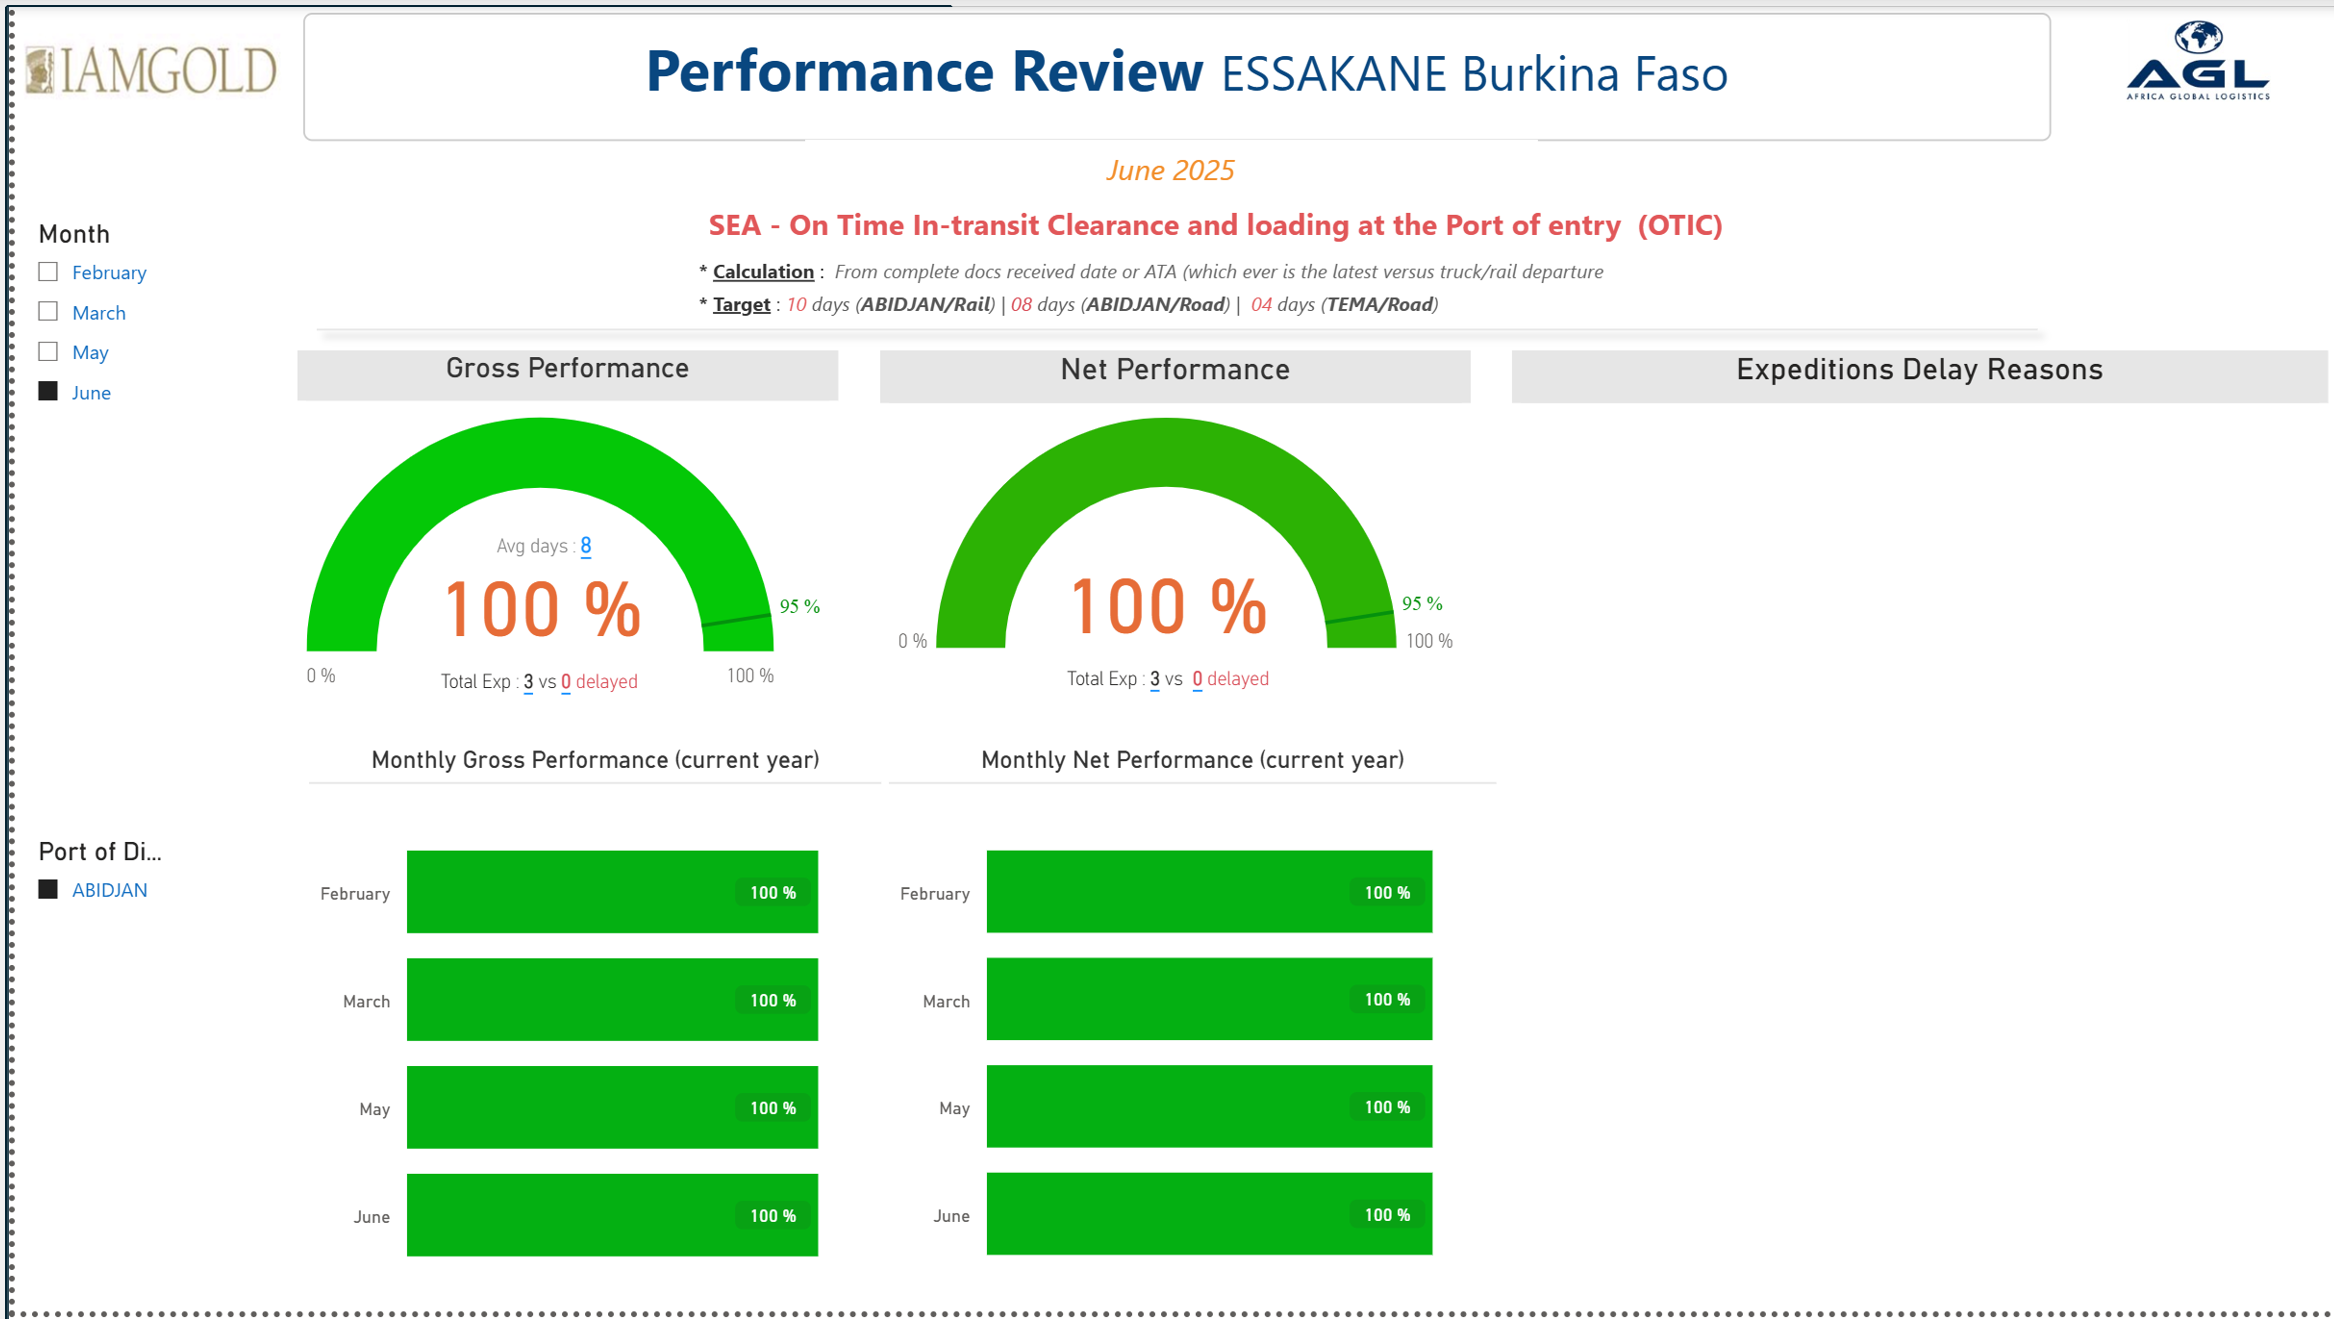

This screenshot's page, from the dashboard's own definition file:
{"tool":"powerbi","page":{"name":"SEA - ABJ | On-Time Clearance and Delivery POD-BF (OTIC))","canvas":[1280,720],"ordinal":0},"visuals":[{"type":"image","box":[1128.2,0,151.5,66.6],"z":0},{"type":"image","box":[0,0.9,152.4,65.7],"z":1000},{"type":"textbox","box":[158.7,4.5,963,70.7],"z":2000},{"type":"textbox","box":[369.6,104.2,583.4,33.3],"z":3000},{"type":"textbox","box":[435.3,75.3,403.8,35.9],"z":4000},{"type":"textbox","box":[371.1,132.2,537.7,47.6],"z":5000},{"type":"gauge","title":"Net Performance","fields":{"Y":["Avg(ESSA_sea.Net Perf % (In Transit))"]},"box":[477.3,190.4,325.4,182],"z":5000,"group":"g1"},{"type":"shape","box":[156.8,170.8,966.1,18.4],"z":6000},{"type":"slicer","fields":{"Values":["ESSA_sea.Month"]},"box":[0,113,115.6,279.4],"z":7000},{"type":"gauge","title":"Gross Performance","fields":{"Y":["Avg(ESSA_sea.Gross Perf % (In Transit))"]},"box":[156.5,190.4,298.1,202.4],"z":8000},{"type":"slicer","fields":{"Values":["ESSA_sea.Port of Discharge"]},"box":[0,453.7,106.9,94.6],"z":9000},{"type":"group","id":"g1","title":"Groupe 1","box":[477.3,190.4,325.4,182],"z":10000,"group":"g2"},{"type":"barChart","title":"Monthly Gross Performance (current year)","fields":{"Y":["Avg(ESSA_sea.Gross Perf % (In Transit))"],"Category":["ESSA_sea.Month"]},"box":[162,409.1,315.3,310.9],"z":10000},{"type":"barChart","title":"Monthly Net Performance (current year)","fields":{"Y":["Avg(ESSA_sea.Net Perf % (In Transit))"],"Category":["ESSA_sea.Month"]},"box":[481.8,409.1,334.6,310.1],"z":11000},{"type":"barChart","title":"Expeditions Delay Reasons","fields":{"Category":["ESSA_sea.Reason for delay1"],"Y":["CountNonNull(ESSA_sea.Reason for delay1)"]},"box":[825.4,190.4,449.6,276.1],"z":12000},{"type":"treemap","fields":{"Group":["ESSA_sea.Delay Responsibility"],"Values":["CountNonNull(ESSA_sea.Delay Responsibility)"]},"box":[825.7,454,449.6,249.9],"z":13000},{"type":"textbox","box":[242.2,283.5,100,33.9],"z":14000},{"type":"textbox","box":[208,357,161.3,31.7],"z":15000},{"type":"group","id":"g2","title":"Groupe 2","box":[477.3,190.4,325.4,197.5],"z":17000},{"type":"textbox","box":[554.7,356.1,161.3,31.7],"z":17000,"group":"g2"}]}

Visuals, with their boxes in screenshot pixels (x1, y1, x2, y2), scaled from the page's 1280x720 canvas onto the 2334x1319 screenshot:
image: locate(2057, 0, 2333, 122)
image: locate(0, 2, 278, 122)
textbox: locate(289, 8, 2045, 138)
textbox: locate(674, 191, 1738, 252)
textbox: locate(794, 138, 1530, 204)
textbox: locate(677, 242, 1657, 329)
"Net Performance" gauge: locate(870, 349, 1464, 682)
shape: locate(286, 313, 2048, 347)
slicer - ESSA_sea.Month: locate(0, 207, 211, 719)
"Gross Performance" gauge: locate(285, 349, 829, 720)
slicer - ESSA_sea.Port of Discharge: locate(0, 831, 195, 1004)
"Groupe 1" group: locate(870, 349, 1464, 682)
"Monthly Gross Performance (current year)" barChart: locate(295, 749, 870, 1318)
"Monthly Net Performance (current year)" barChart: locate(879, 749, 1489, 1318)
"Expeditions Delay Reasons" barChart: locate(1505, 349, 2325, 855)
treemap - ESSA_sea.Delay Responsibility x CountNonNull(ESSA_sea.Delay Responsibility): locate(1506, 832, 2325, 1290)
textbox: locate(442, 519, 624, 581)
textbox: locate(379, 654, 673, 712)
"Groupe 2" group: locate(870, 349, 1464, 711)
textbox: locate(1011, 652, 1306, 710)
